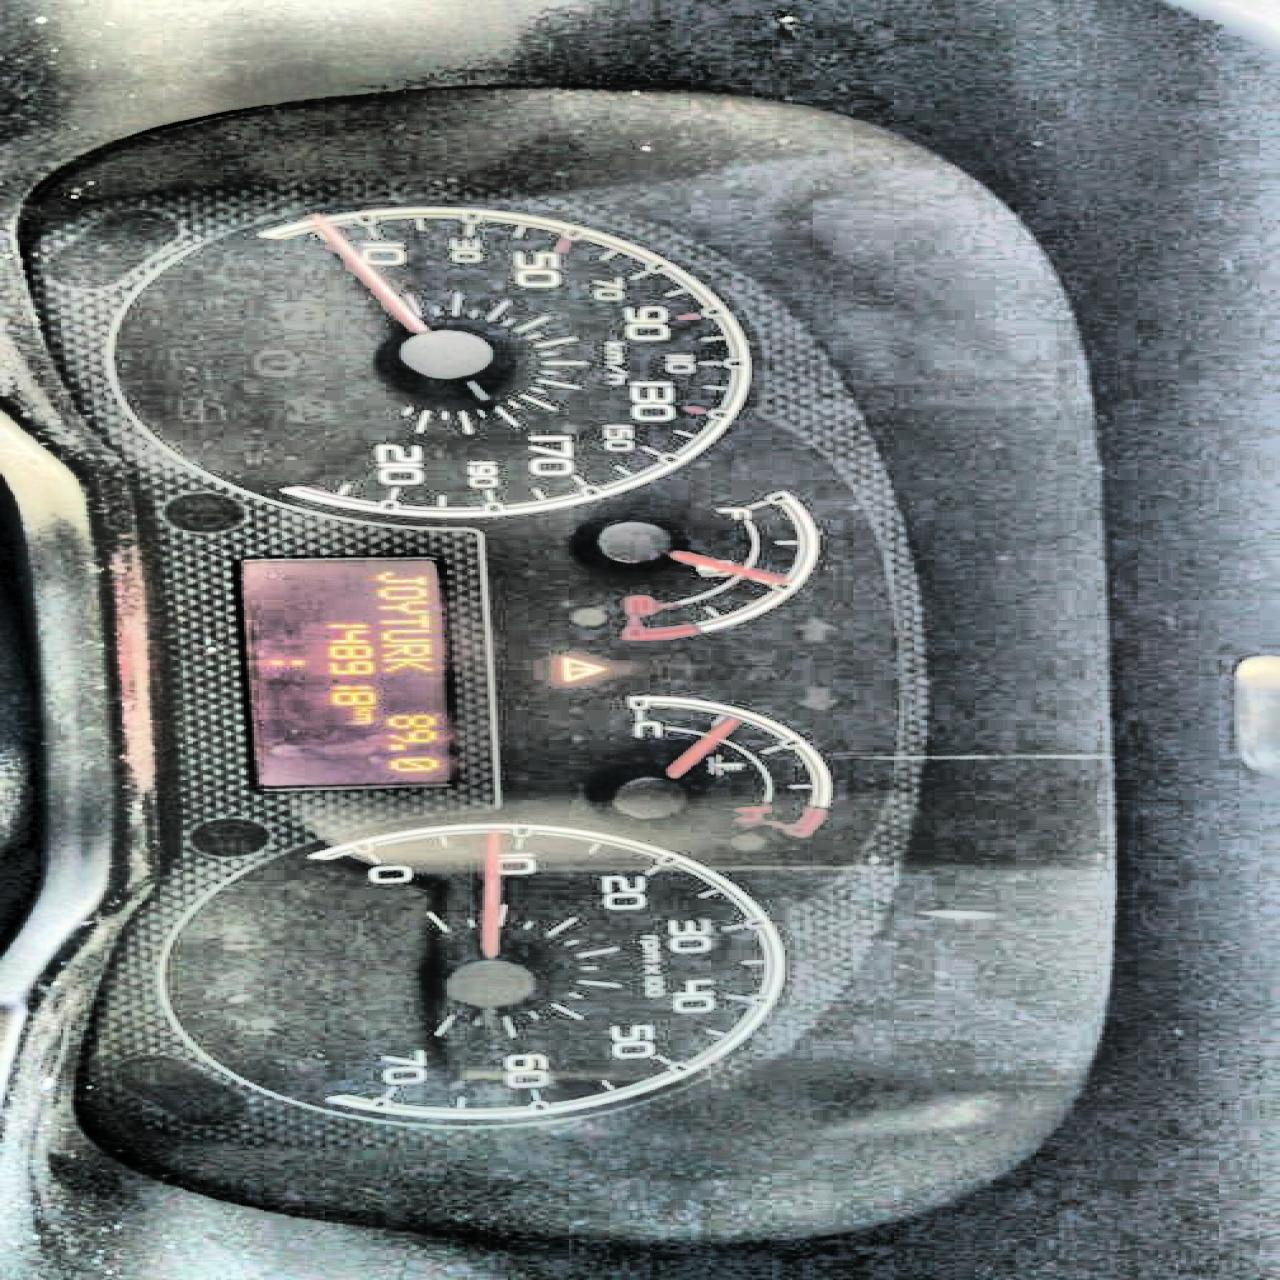-: (383, 742, 407, 750)
0: (386, 756, 437, 771)
1: (327, 682, 370, 689), (325, 621, 368, 628)
4: (325, 628, 368, 644)
8: (383, 713, 435, 728), (325, 644, 370, 659), (328, 690, 373, 704)
9: (383, 728, 437, 742), (325, 659, 373, 674)
X: (373, 570, 427, 585), (379, 656, 431, 672), (379, 627, 429, 642), (379, 641, 429, 656), (373, 585, 427, 599), (376, 613, 429, 627), (376, 599, 427, 613), (266, 658, 305, 665), (350, 712, 370, 723), (350, 706, 376, 713)
odometer: (229, 553, 459, 792)
